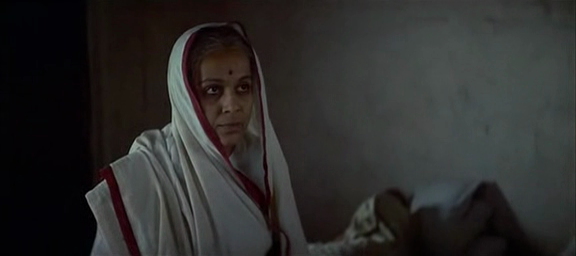face: (196, 54, 255, 147)
mcu: (1, 1, 576, 256)
person: (85, 22, 308, 256)
